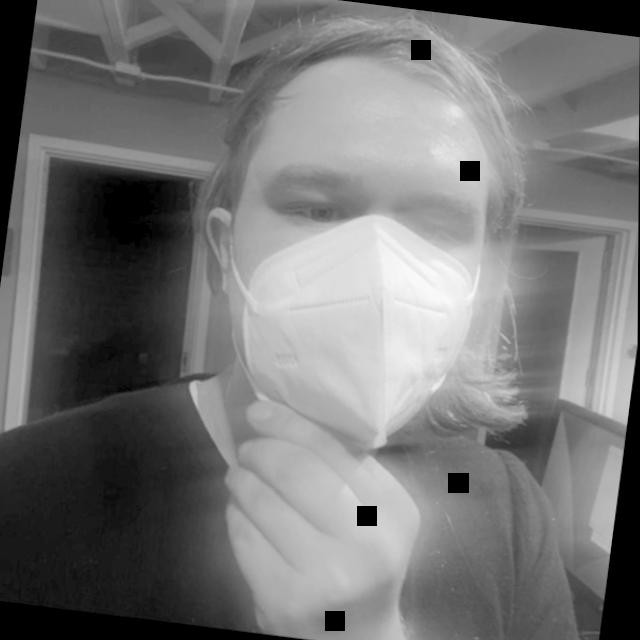Mask: (143, 0, 581, 458)
